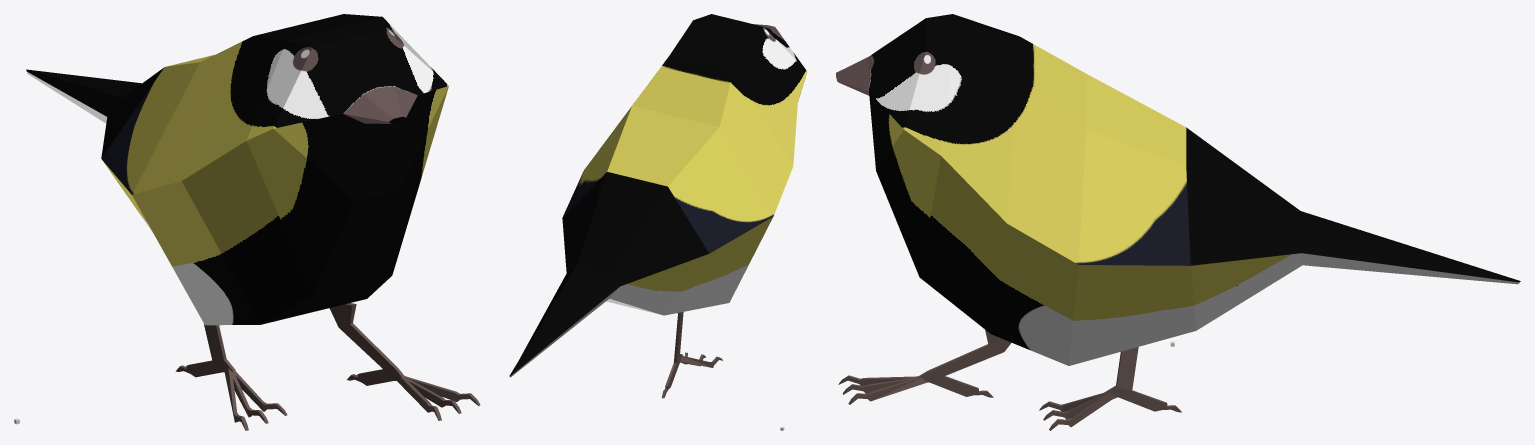
Rendered from zyle1.glb.
3 views of the same model, side by side, from view 1: azimuth 30°, elevation 25°; view 2: azimuth 150°, elevation 25°; view 3: azimuth 270°, elevation 25° (orthographic). The views are drawn at different scales.
Parts seen in each view (by area): view 1: Plane; view 2: Plane; view 3: Plane.
Boxes of the visible parts, x1,y1,x2,y2 form: Plane: [26, 14, 480, 430]; Plane: [509, 14, 807, 398]; Plane: [836, 14, 1520, 430].
Bounding box in the file's own units: 1.89 × 2.35 × 3.64.
2 materials, 2 textured.
